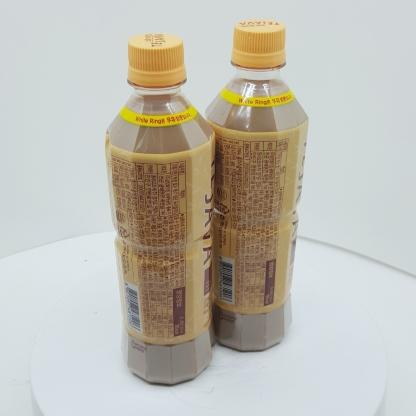-------------500ML: (105, 32, 215, 385), (202, 19, 309, 351)
